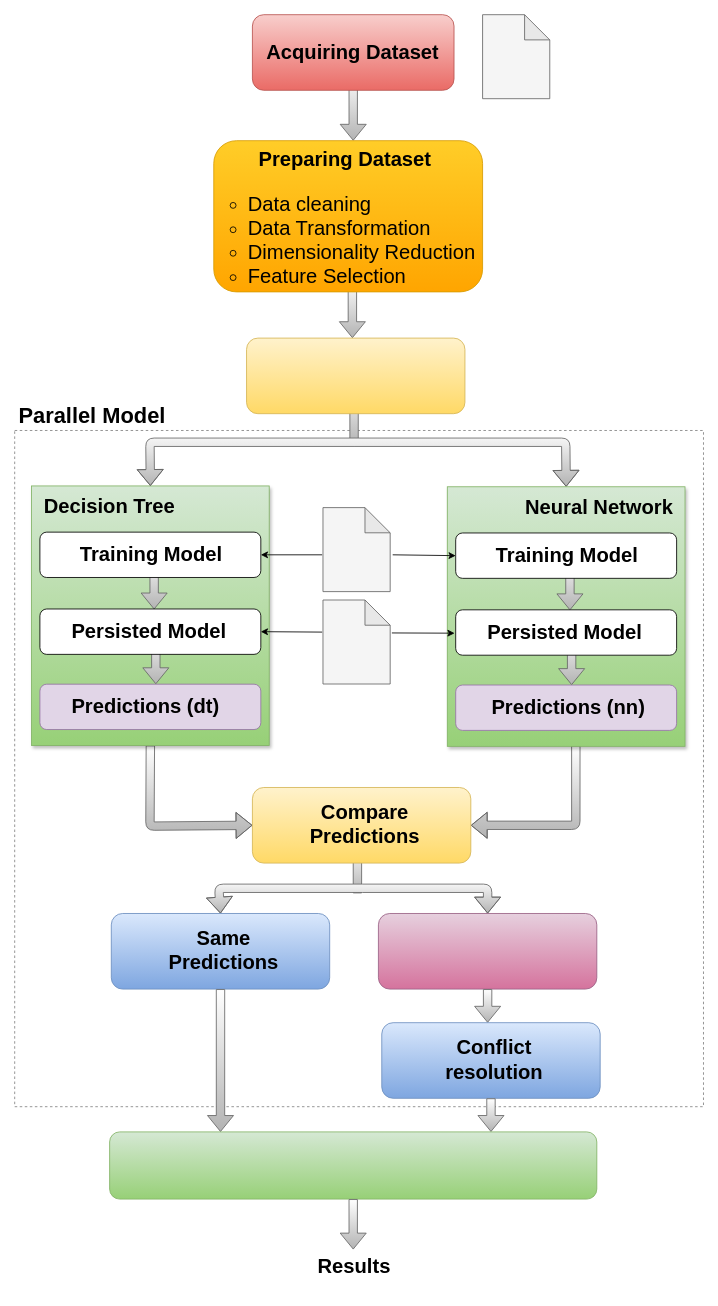
The diagram is 718 pixels wide and 1306 high, and some of its shapes have lost their labels. The shapes that lost their labels are listed below. From the top down, each one's centre as x and y in pixels, then its label:
At (516,56): "Raw Data".
At (355,375): "Splitting Dataset Train | Test".
At (356,549): "Train Data".
At (356,641): "Test Data".
At (487,951): "Conflicting Predictions".
At (353,1165): "Model Evaluation".
